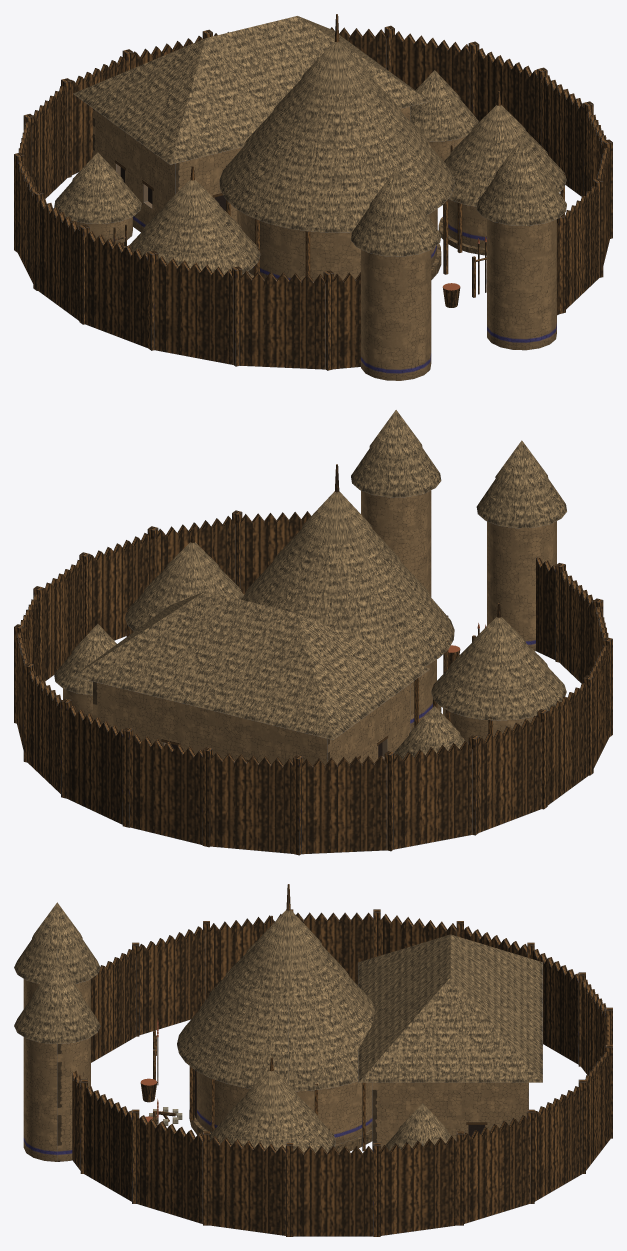
Rendered from africanpalacesubsaharan.glb.
3 renders of one model, top to bottom at view 1: azimuth 30°, elevation 25°; view 2: azimuth 150°, elevation 25°; view 3: azimuth 270°, elevation 25°, orthographic. The views are drawn at different scales.
Visible parts, largest first — view 1: AfricanPalaceSubSaharan; view 2: AfricanPalaceSubSaharan; view 3: AfricanPalaceSubSaharan.
Boxes of the visible parts, x1=… form: AfricanPalaceSubSaharan: x1=14, y1=14, x2=612, y2=380; AfricanPalaceSubSaharan: x1=14, y1=410, x2=612, y2=855; AfricanPalaceSubSaharan: x1=14, y1=884, x2=612, y2=1236.
Size of the model in its own units: 20.01 by 9.25 by 21.43.
Materials: 1 (1 with a texture image).
